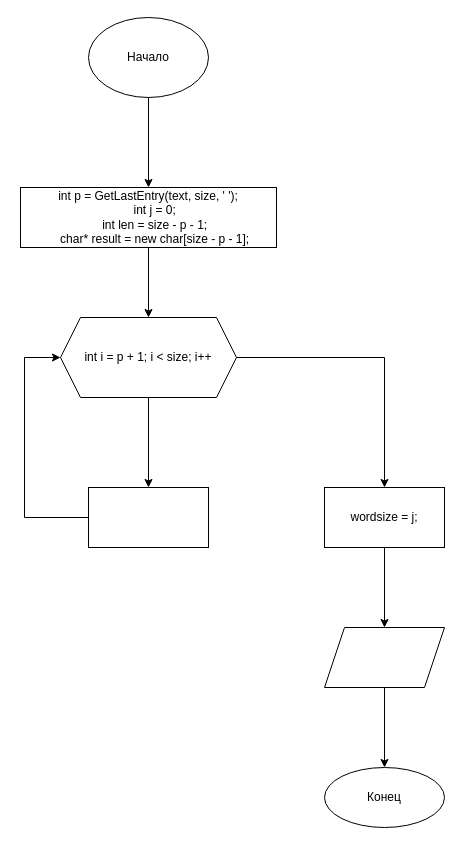
The diagram is 462 pixels wide and 845 high, and some of its shapes have lost their labels. The centre of each missing label's shape, as x and y in pixels:
"result[j] = text[i]; j++;" belongs at point 148,517.
"return result;" belongs at point 384,657.
